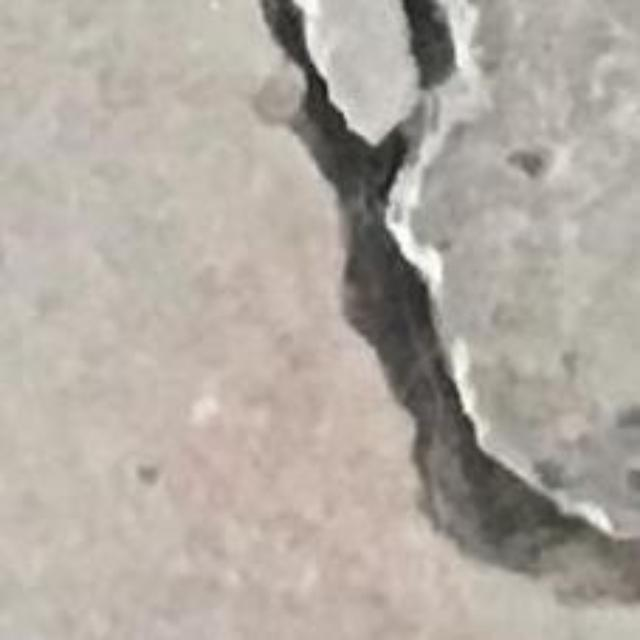crack: (263, 0, 639, 611)
